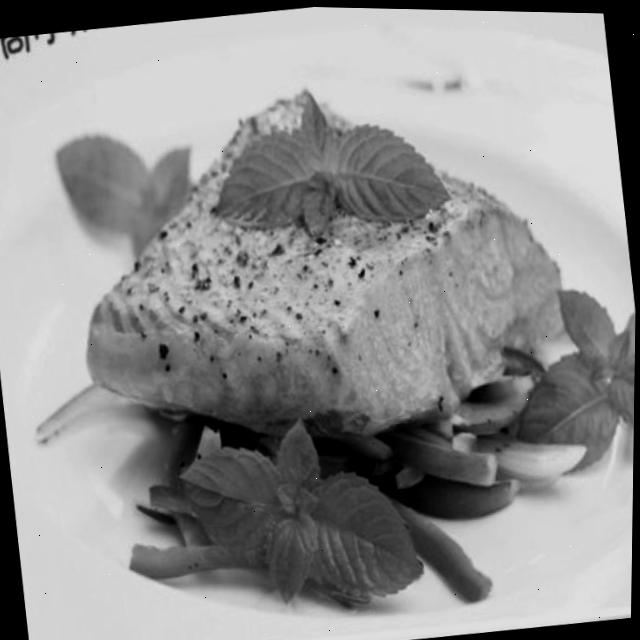熟制海鲜: (0, 0, 640, 632)
